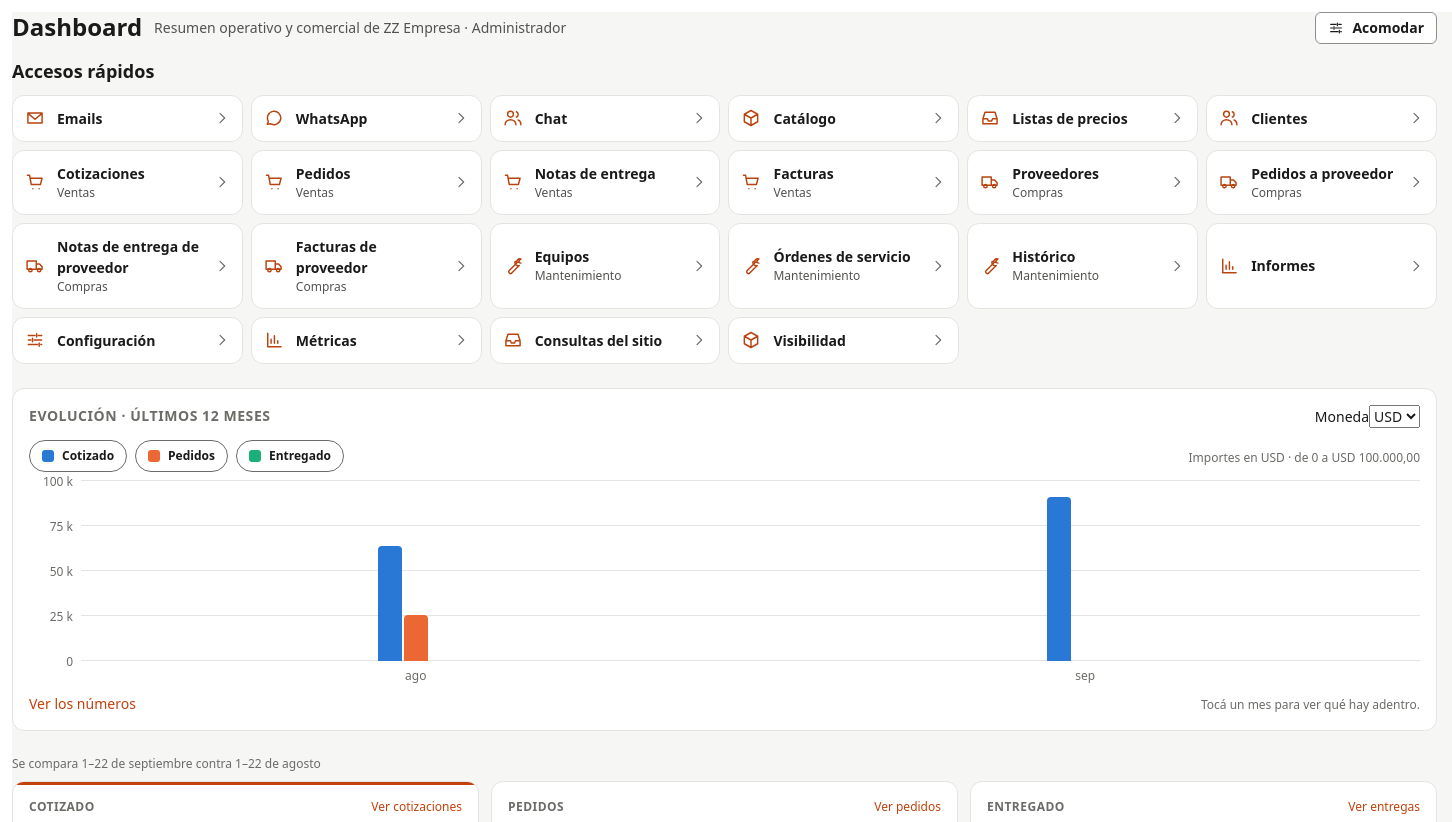
Test: D · La evolución › «Ver los números» abre la tabla con una columna por serie
The image size is (1452, 822).
Click the button "Ver los números" at (82, 703), box [29,692,136,714]
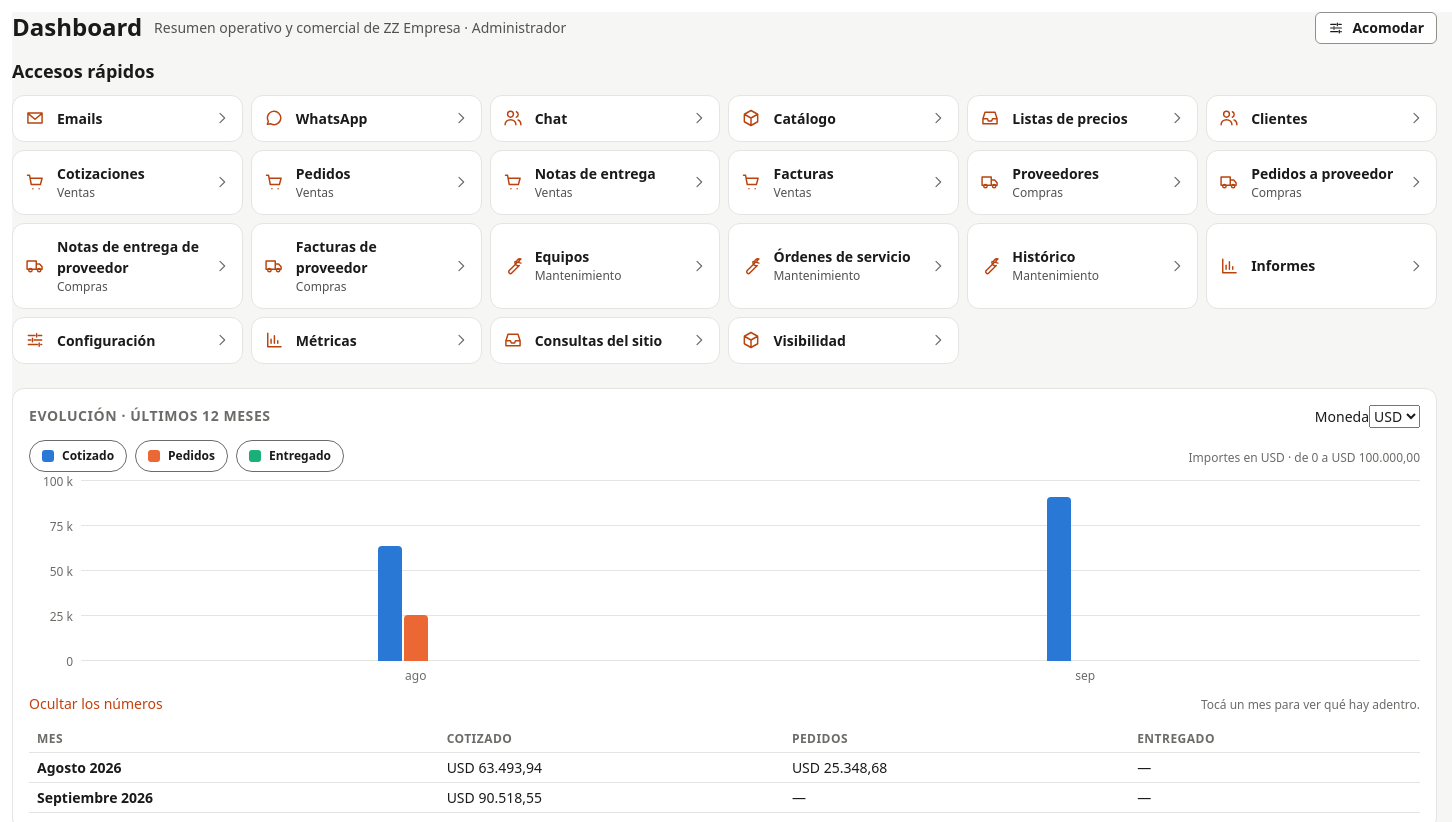
expect the column heading "Septiembre 2026" is shown: met, box [29,782,439,812]
expect the text "USD 90.518,55" is shown: met, box [439,782,784,812]
expect the column heading "Cotizado" is shown: met, box [439,726,784,752]
